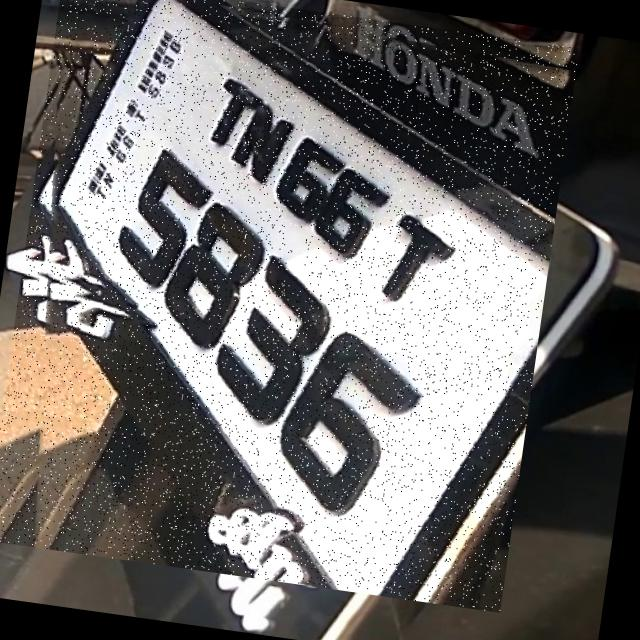Plate: (1, 1, 580, 614)
